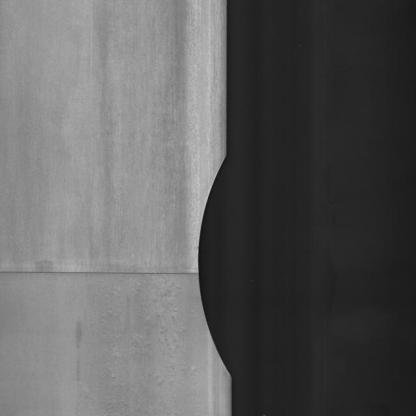welding_line: (1, 260, 206, 294)
